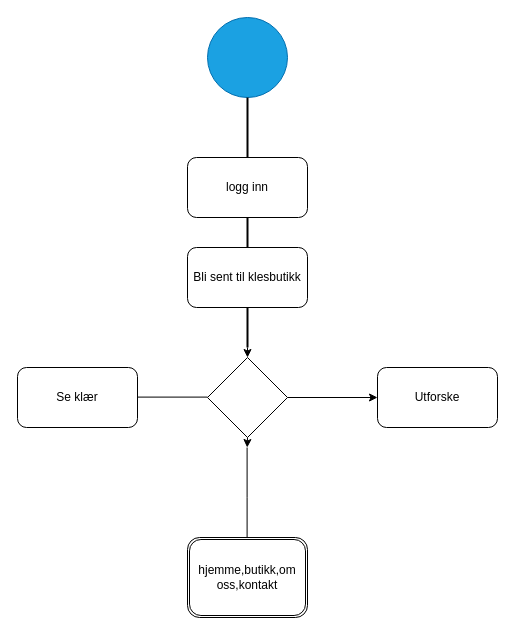
Image size: 515x635. Some labels were removed from this diagram. The shapes that lost their labels are listed below. From the top down, each one's centre as x and y in pixels, then its label:
[247,57]: start
[247,397]: produkter
